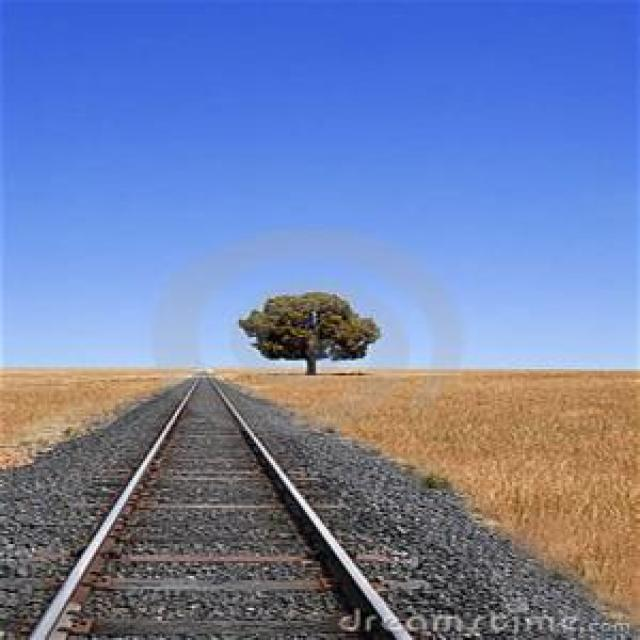rail: (5, 372, 456, 640)
